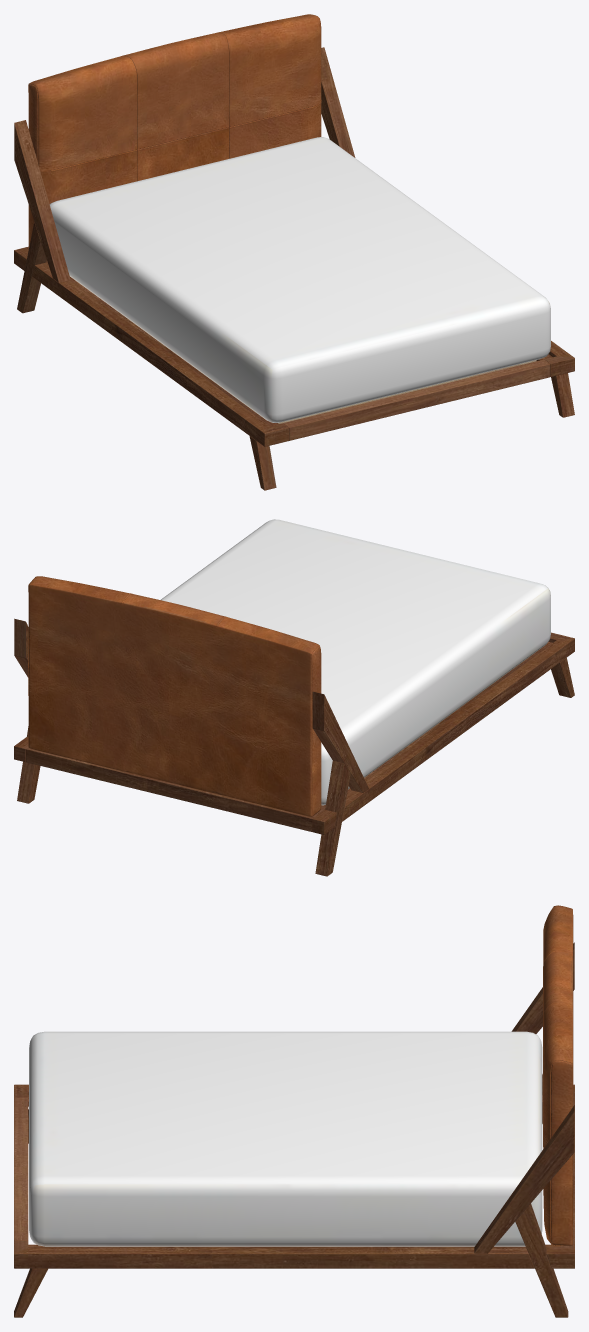
The model's file is bed-queen-platform.glb.
The picture shows the model from 3 angles, top to bottom: view 1: azimuth 30°, elevation 25°; view 2: azimuth 150°, elevation 25°; view 3: azimuth 270°, elevation 25°; orthographic projection. The views are drawn at different scales.
Visible parts, largest first — view 1: B075X2CVQK; view 2: B075X2CVQK; view 3: B075X2CVQK.
Boxes of the visible parts, x1,y1,x2,y2 form: B075X2CVQK: (14,14,574,490); B075X2CVQK: (14,519,574,876); B075X2CVQK: (14,905,574,1317).
Bounding box in the file's own units: 1.65 × 1.17 × 2.31.
Materials: 1 (1 with a texture image).
